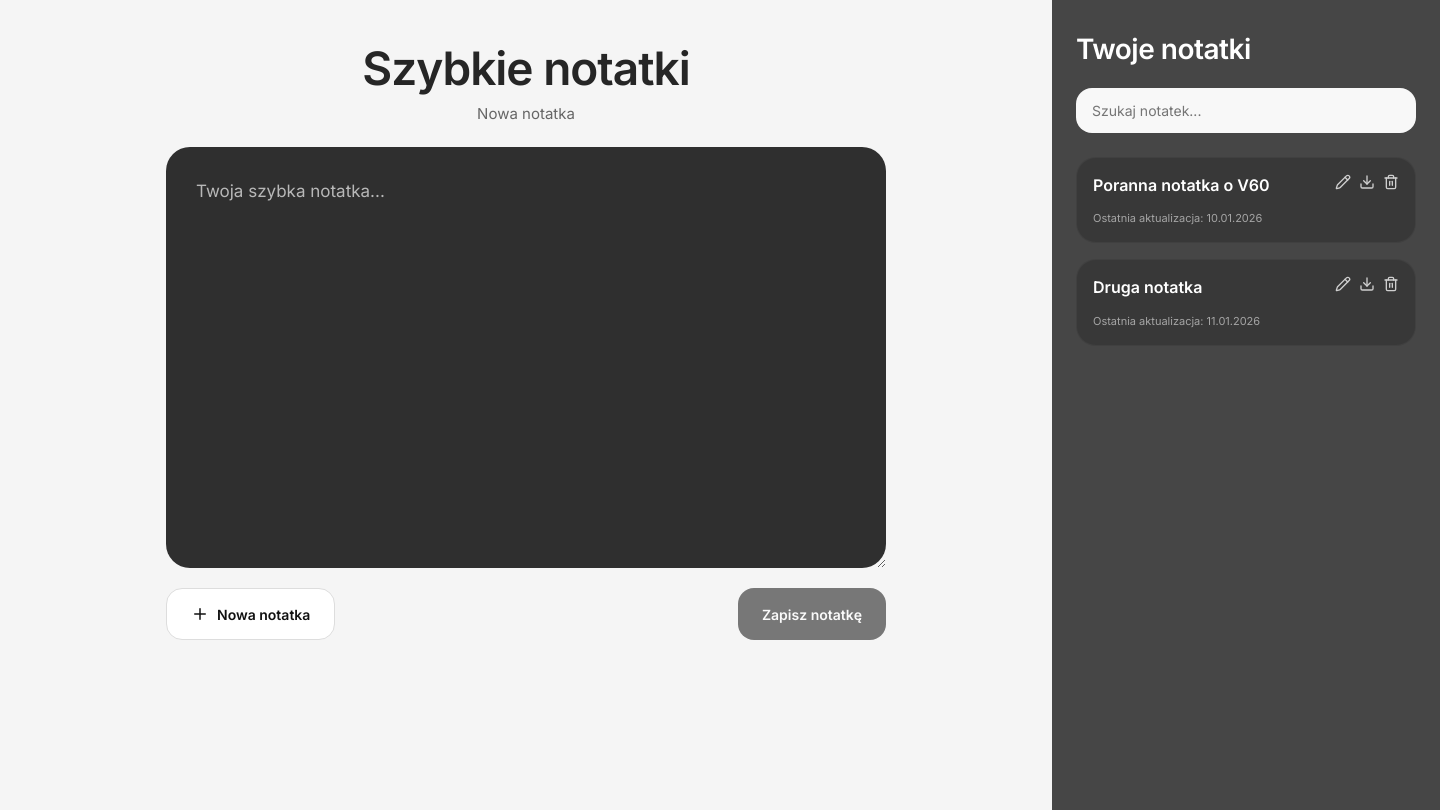
Test: Quicknotes › deletes a note after confirmation
Expected: the heading "Poranna notatka o V60" is shown, [1093,175,1270,195]
Click the 3rd icon: {"x": 1391, "y": 182} [1383,174,1399,190]
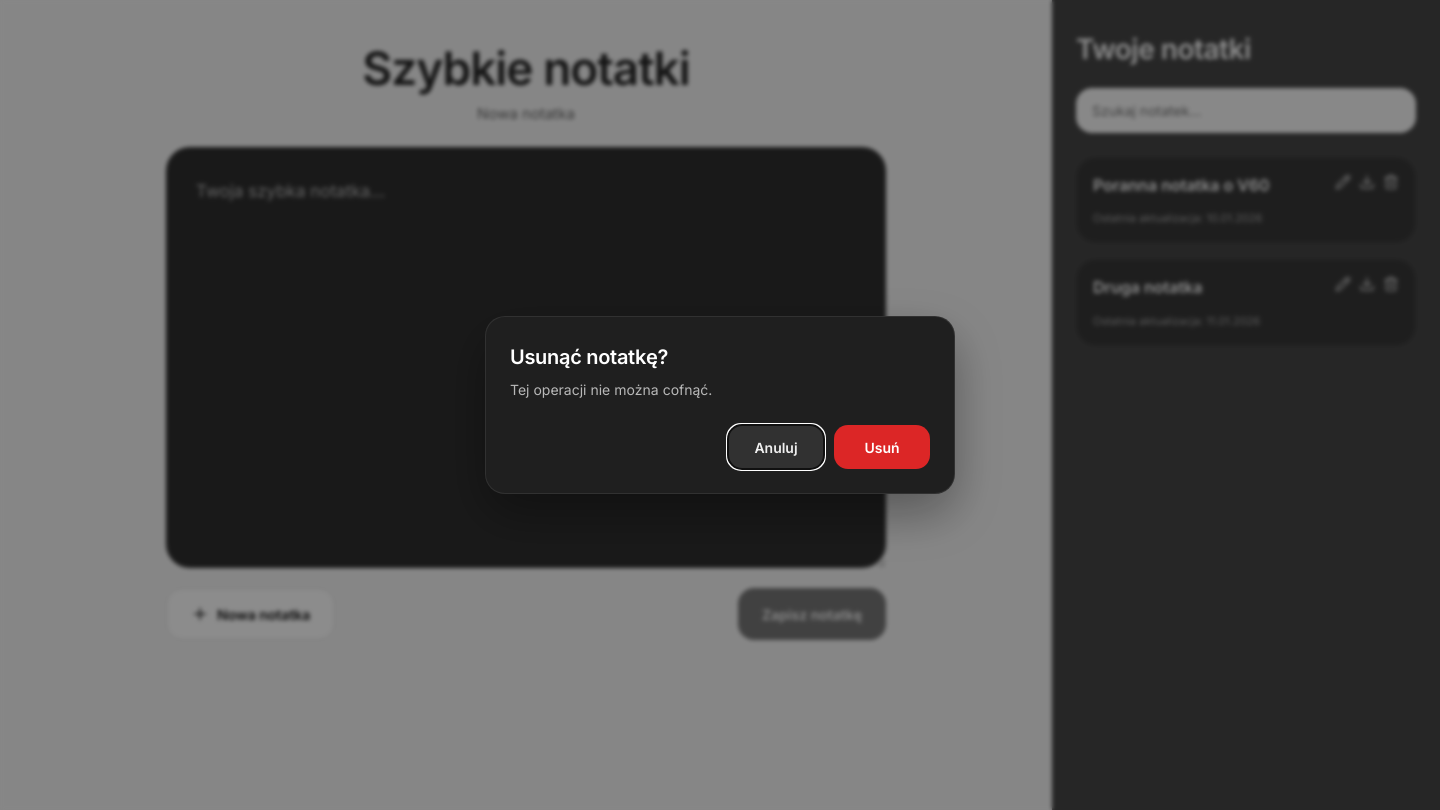
Expected: the heading "Usunąć notatkę?" is shown, [510,345,668,369]
Click the button "Usuń": {"x": 882, "y": 447} [834,425,930,469]
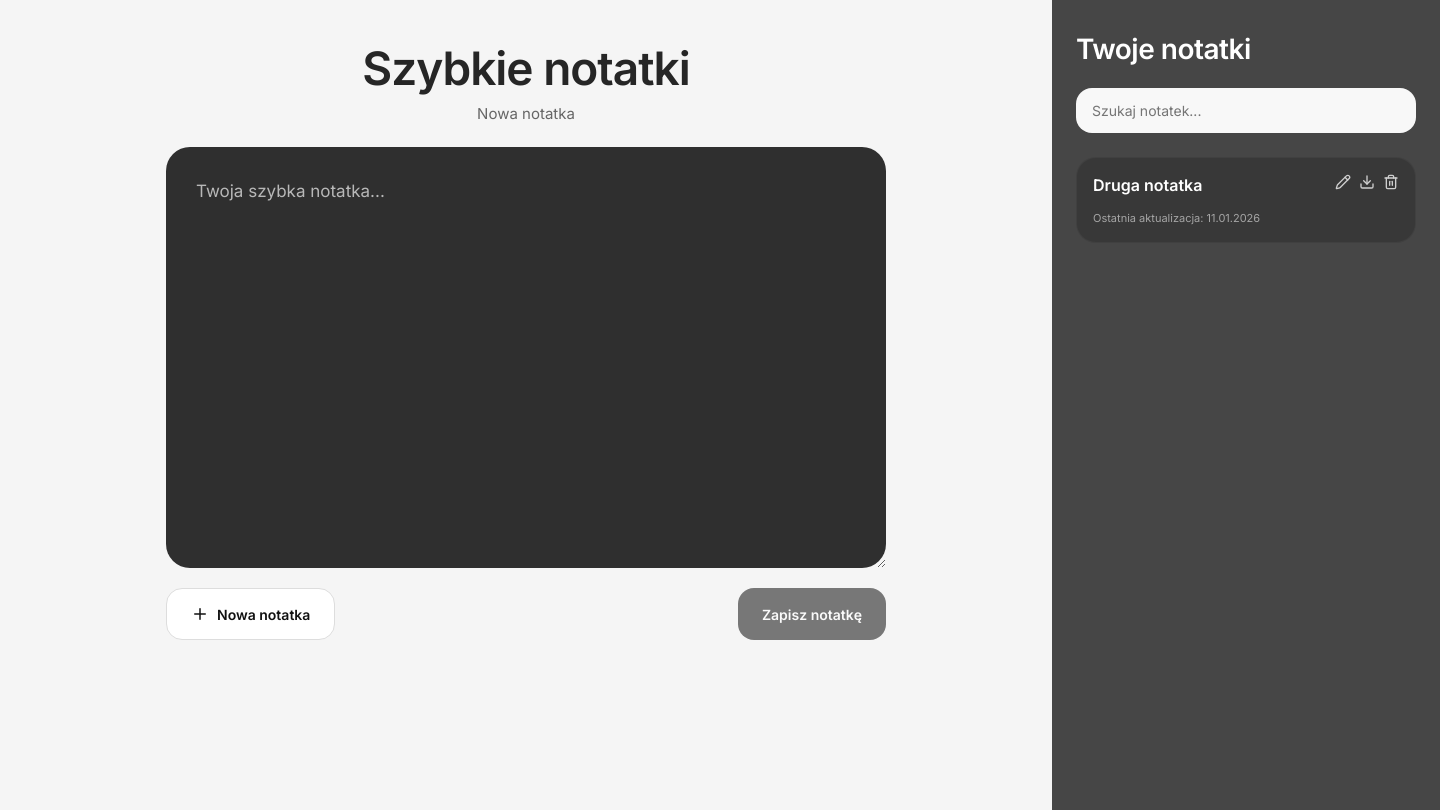
Expected: the button "Poranna notatka o V60" is gone
